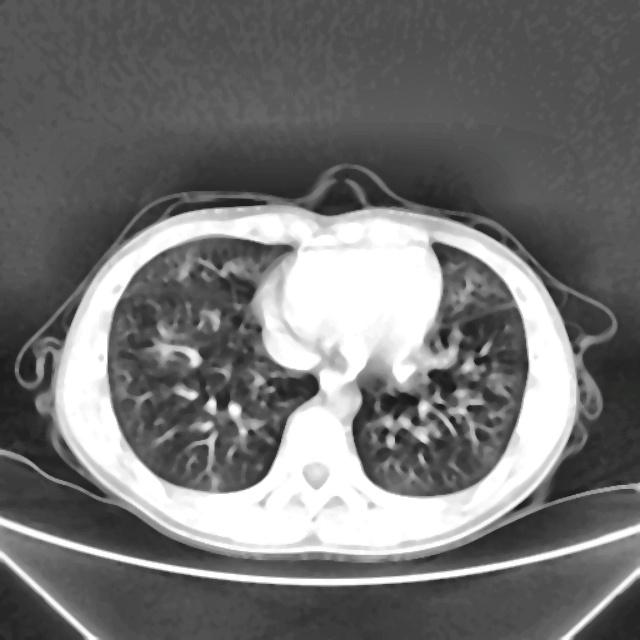covid: (20, 168, 614, 563)
